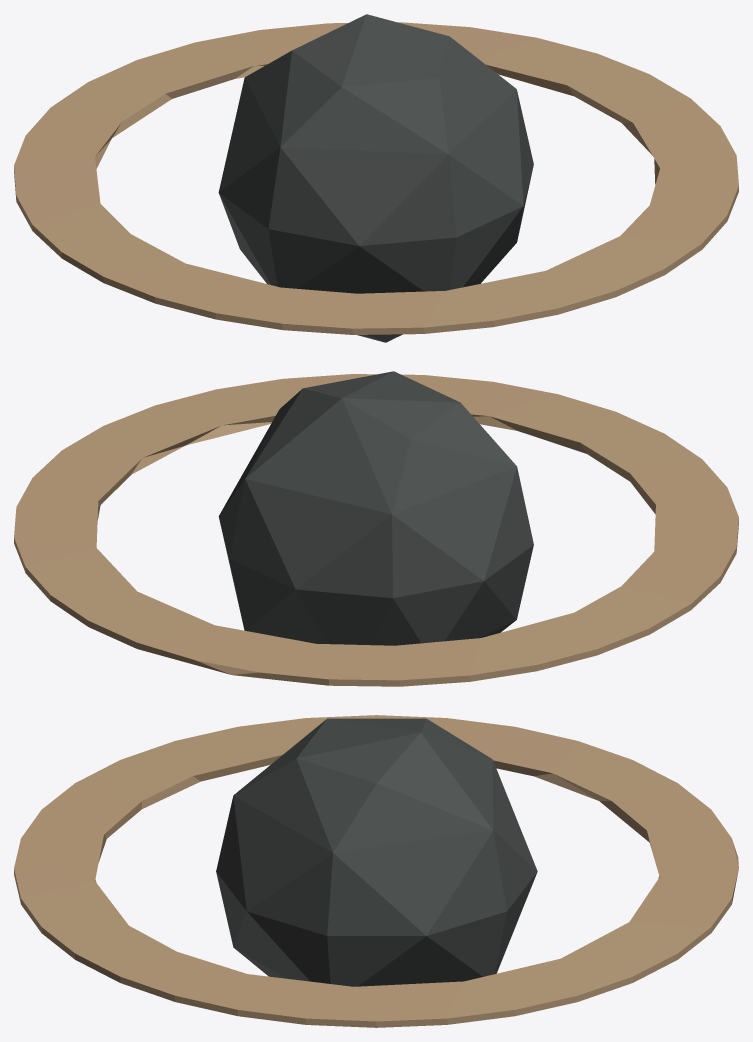
Rendered from Planet_1.fbx.
The picture shows the model from 3 angles, top to bottom: view 1: azimuth 30°, elevation 25°; view 2: azimuth 150°, elevation 25°; view 3: azimuth 270°, elevation 25°; orthographic projection.
Visible parts, largest first — view 1: Circle, Icosphere; view 2: Circle, Icosphere; view 3: Circle, Icosphere.
Boxes of the visible parts, x1,y1,x2,y2 form: Circle: [14, 22, 738, 334]; Icosphere: [218, 14, 533, 342]; Circle: [14, 374, 738, 686]; Icosphere: [218, 371, 533, 645]; Circle: [14, 715, 738, 1027]; Icosphere: [216, 718, 537, 986].
Bounding box in the file's own units: 3929 × 1733 × 3929.
